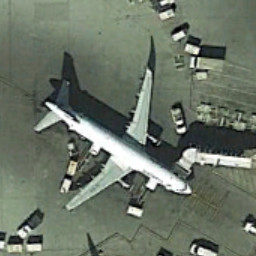Airplane: (15, 59, 199, 225)
